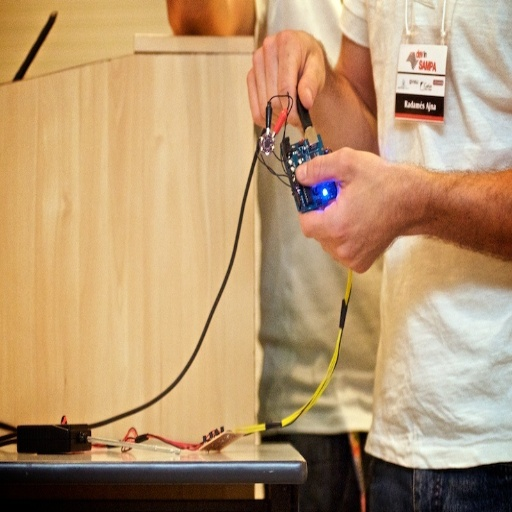hand: (296, 144, 410, 275), (241, 22, 344, 105)
